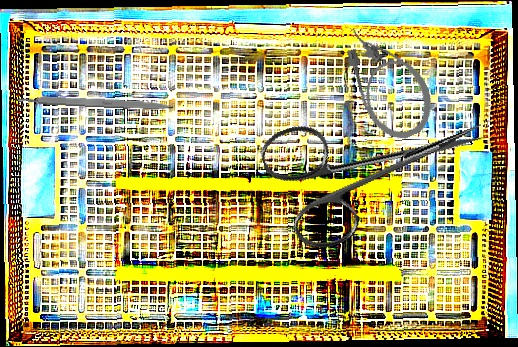Cannula: (332, 10, 444, 149)
Iris Scissors: (255, 68, 503, 259)
Scalpel Handle: (15, 92, 175, 112)
